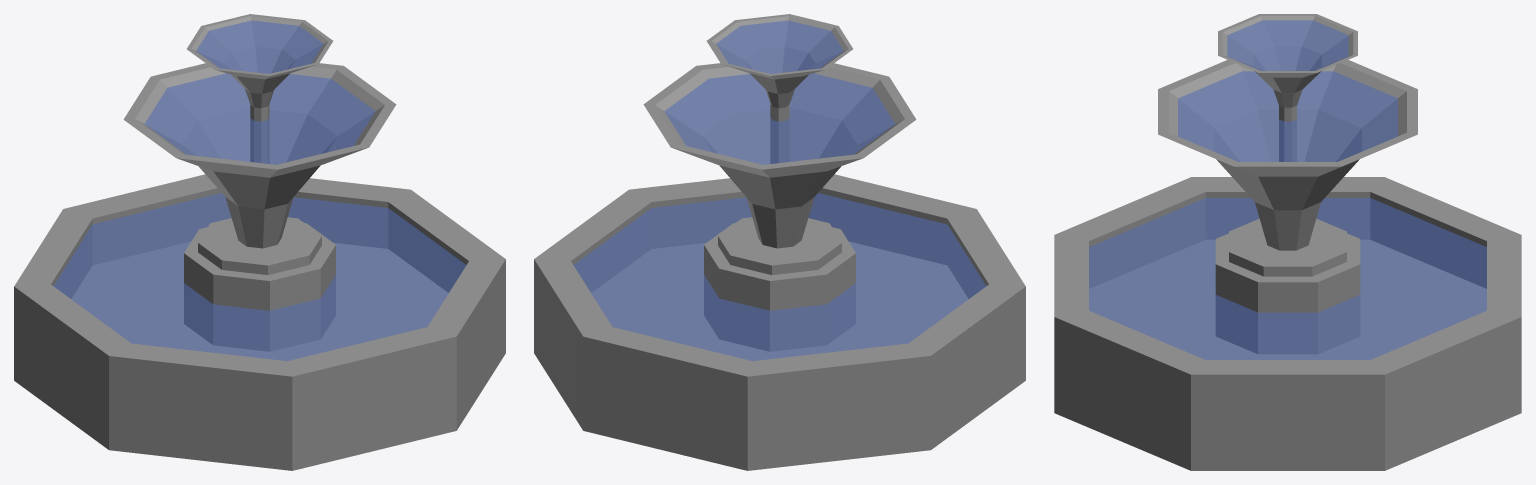
Rendered from Fountain.fbx.
3 views of the same model, side by side, from view 1: azimuth 30°, elevation 25°; view 2: azimuth 150°, elevation 25°; view 3: azimuth 270°, elevation 25° (orthographic). The views are drawn at different scales.
Parts seen in each view (by area): view 1: Fountain; view 2: Fountain; view 3: Fountain.
Part boxes in pixels (x1,y1,x2,y2): Fountain: (14,14,505,470); Fountain: (534,14,1025,470); Fountain: (1054,14,1521,470).
Size of the model in its own units: 277 by 215 by 277.
